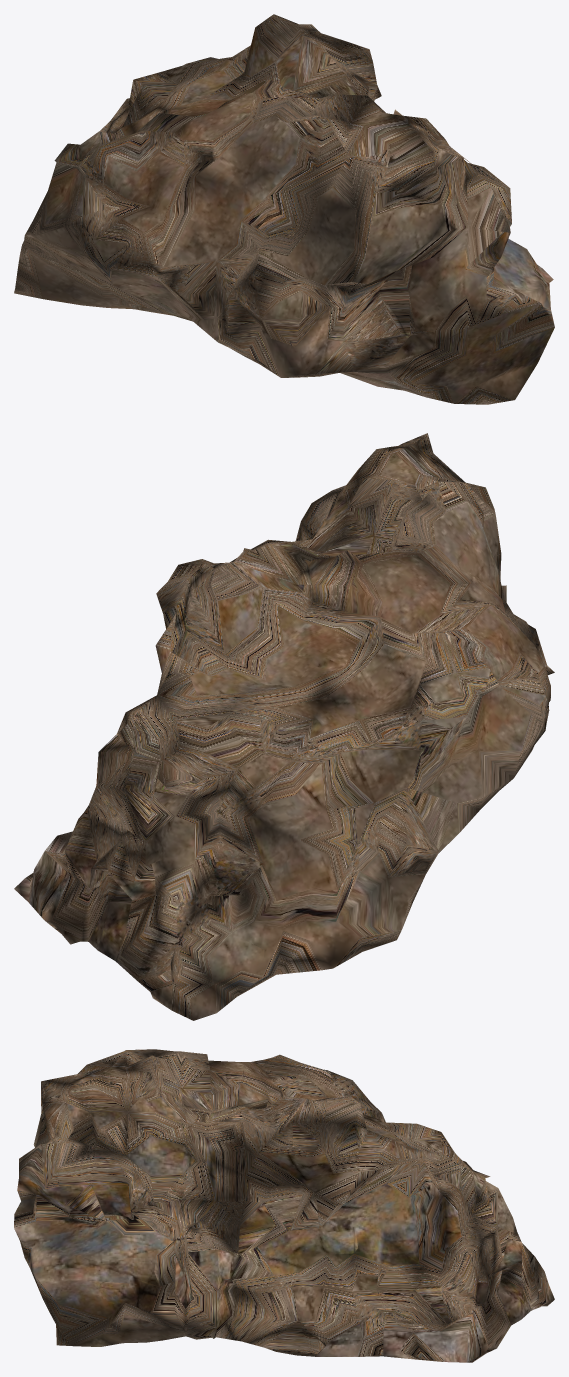
The model's file is boulder.glb.
3 renders of one model, top to bottom at view 1: azimuth 30°, elevation 25°; view 2: azimuth 150°, elevation 25°; view 3: azimuth 270°, elevation 25°, orthographic. The views are drawn at different scales.
Parts seen in each view (by area): view 1: boulder_01; view 2: boulder_01; view 3: boulder_01.
Part boxes in pixels (box(x1,y1,x2,y2)): boulder_01: box(14, 14, 554, 404); boulder_01: box(14, 433, 554, 1020); boulder_01: box(14, 1049, 554, 1362).
Bounding box in the file's own units: 1.25 × 0.9857 × 1.81.
Materials: 1 (1 with a texture image).
